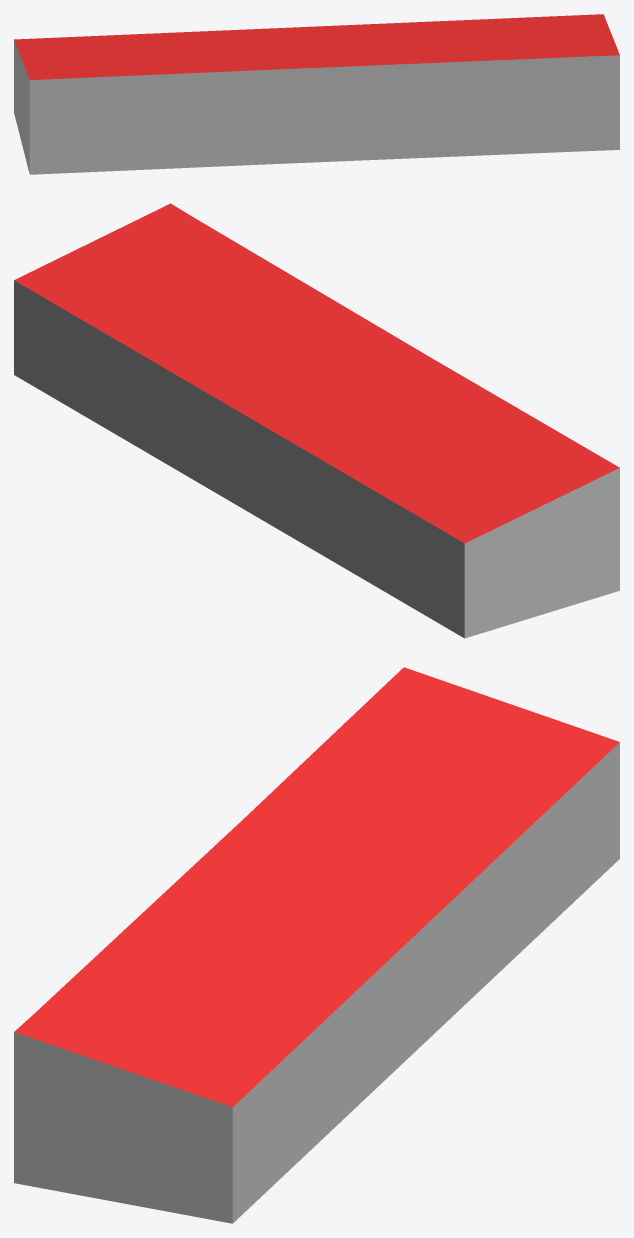
The model's file is DEBY_LOD2_4908146.dae.
3 views of the same model, one above another, from view 1: azimuth 30°, elevation 25°; view 2: azimuth 150°, elevation 25°; view 3: azimuth 270°, elevation 25° (orthographic). The views are drawn at different scales.
Bounding box in the file's own units: 21.75 × 13.74 × 3.78.
